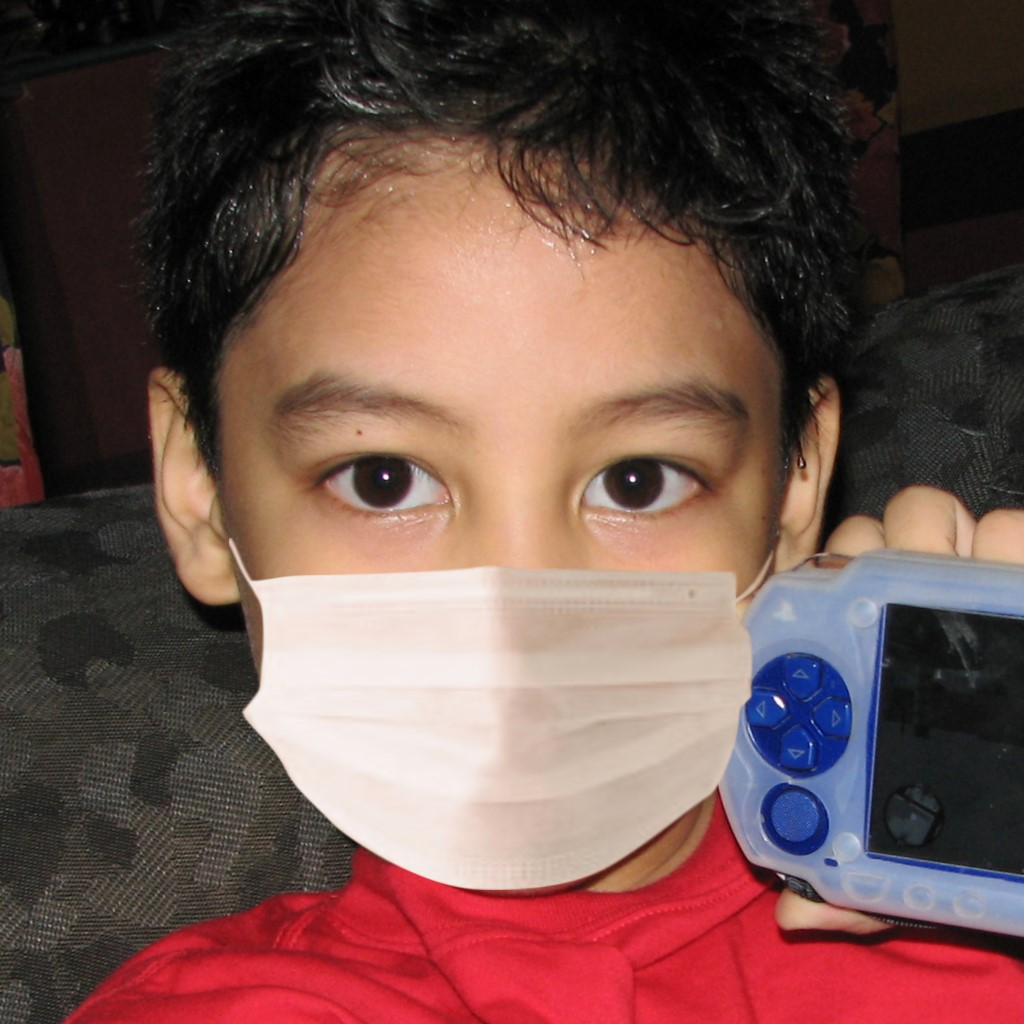con_mascara: (181, 75, 804, 895)
